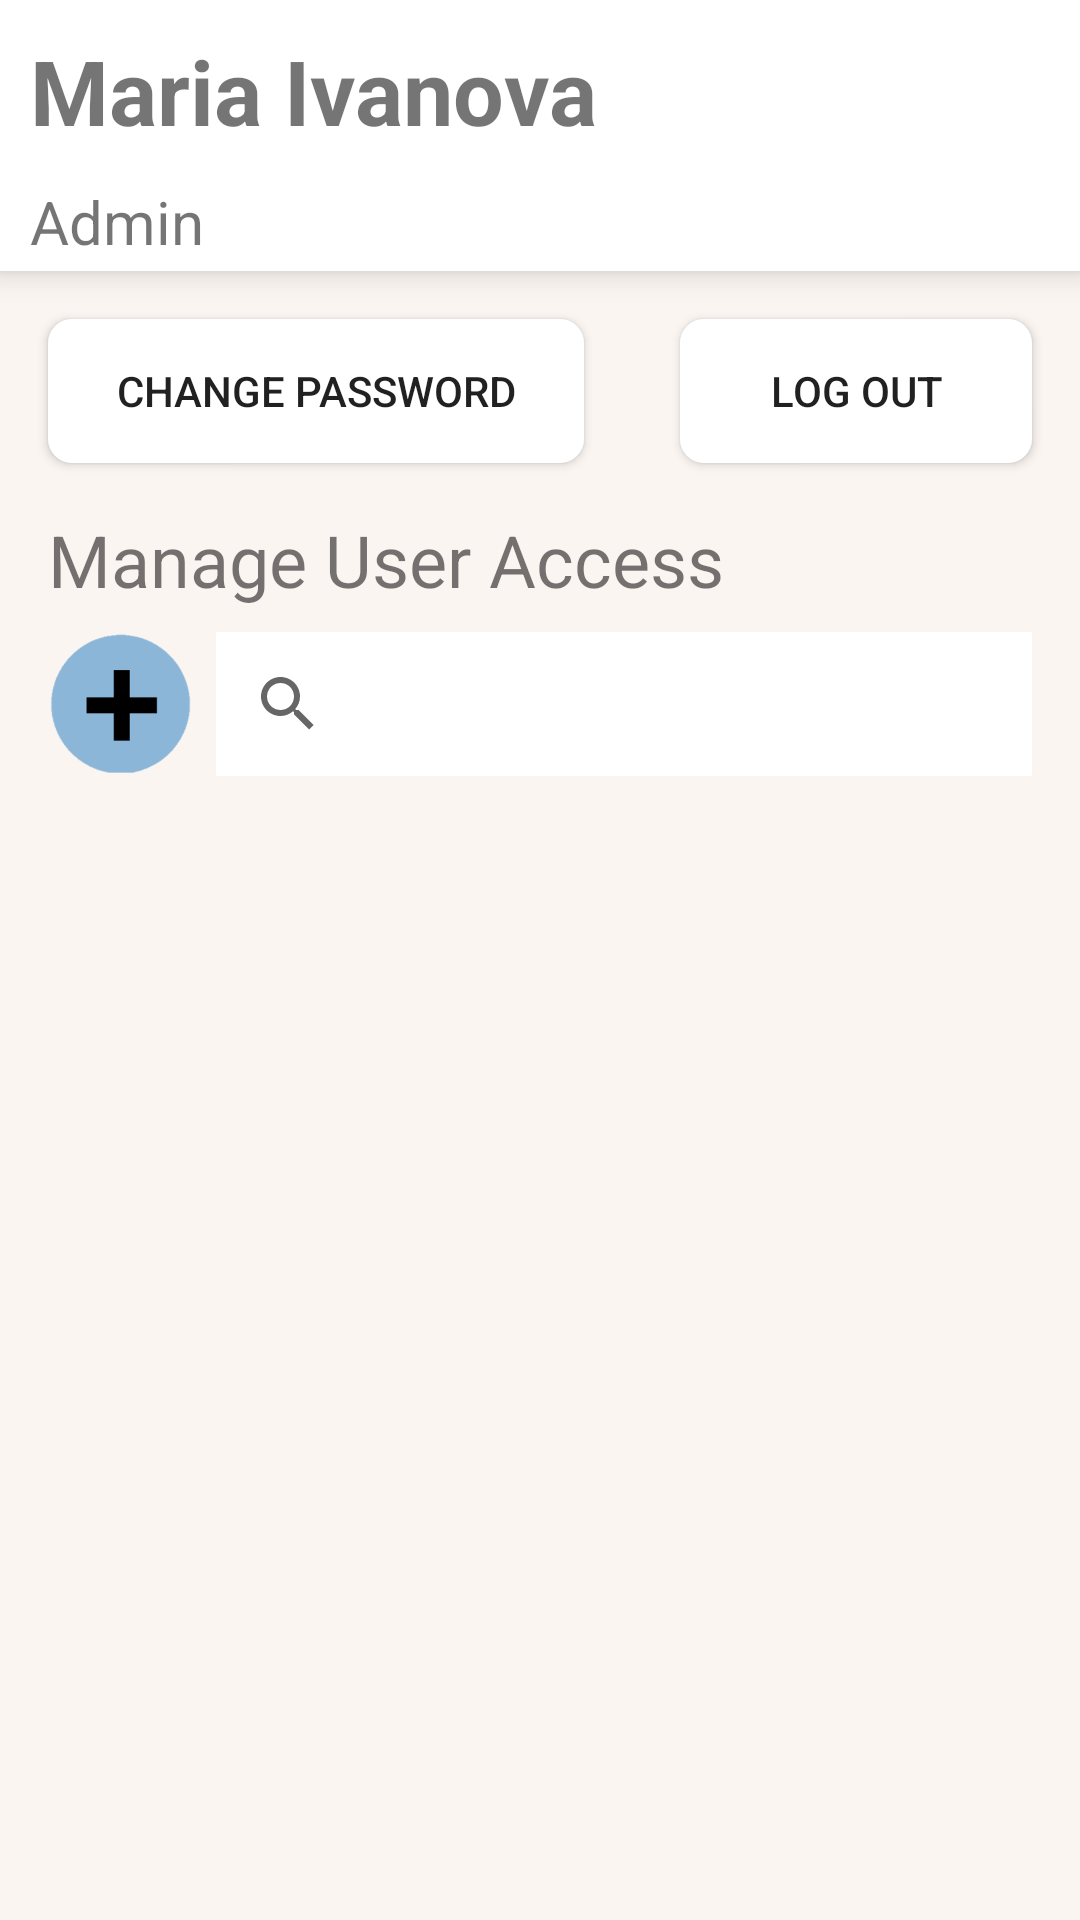

Point at icon controls on the screen. Image size 1080×1920, points as (x,y).
plus: (120,703)
